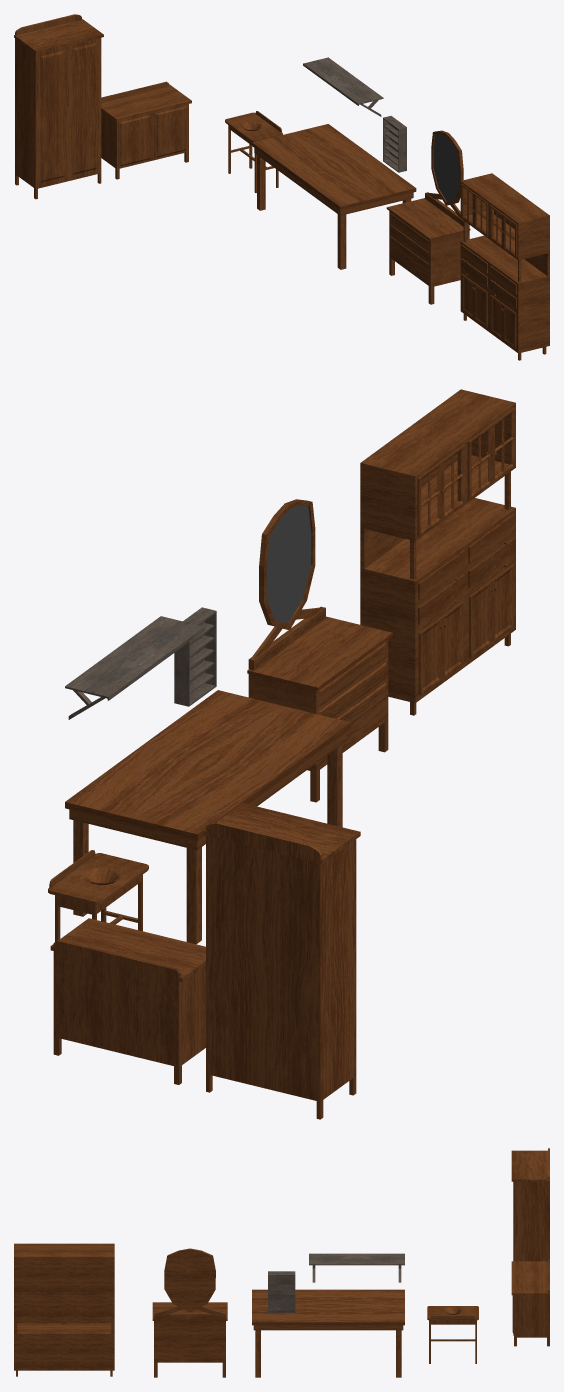
Rendered from oldwest_04.obj.
The picture shows the model from 3 angles, top to bottom: view 1: azimuth 30°, elevation 25°; view 2: azimuth 150°, elevation 25°; view 3: azimuth 270°, elevation 25°; orthographic projection. The views are drawn at different scales.
Visible parts, largest first — view 1: Cube.206, Cube.197, Cube.188, Cube.205, Cube.204, Cube.190, Cube.192, Cube.193, Cube.201, Cube.200, Cube.198, Cube.199; view 2: Cube.206, Cube.197, Cube.188, Cube.205, Cube.204, Cube.190, Cube.192, Cube.193, Cube.200, Cube.201, Cube.198, Cube.199; view 3: Cube.197, Cube.205, Cube.188, Cube.206, Cube.204, Cube.190, Cube.193, Cube.192.
Part boxes in pixels (x1,y1,x2,y2): Cube.206: (14,14,103,199); Cube.197: (460,173,549,360); Cube.188: (252,124,416,269); Cube.205: (386,130,470,304); Cube.204: (101,81,191,179); Cube.190: (303,57,383,116); Cube.192: (225,111,282,192); Cube.193: (383,116,406,172); Cube.201: (490,295,516,348); Cube.200: (461,274,487,327); Cube.198: (460,183,488,236); Cube.199: (489,205,517,257); Cube.206: (204,803,360,1119); Cube.197: (360,389,515,715); Cube.188: (65,690,350,944); Cube.205: (247,499,392,802); Cube.204: (50,918,205,1084); Cube.190: (65,616,204,719); Cube.192: (48,850,148,941); Cube.193: (174,607,216,706); Cube.200: (418,601,464,695); Cube.201: (469,564,514,658); Cube.198: (417,444,465,536); Cube.199: (467,407,515,499); Cube.197: (14,1243,114,1376); Cube.205: (152,1248,227,1377); Cube.188: (252,1289,404,1377); Cube.206: (511,1148,549,1261); Cube.204: (511,1259,549,1346); Cube.190: (309,1253,404,1282); Cube.193: (268,1271,295,1312); Cube.192: (427,1306,478,1363).
Bounding box in the file's own units: 2.39 × 1.54 × 5.51.
3 materials, 2 textured.
